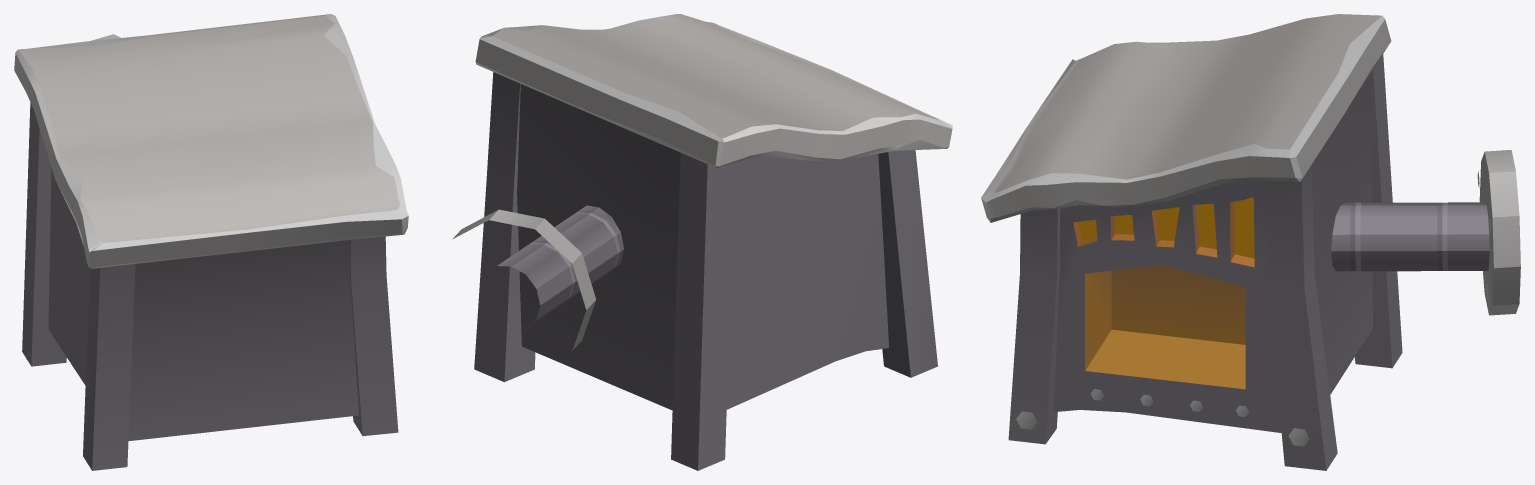
File: Furnace_1.glb
3 views of the same model, side by side, from view 1: azimuth 30°, elevation 25°; view 2: azimuth 150°, elevation 25°; view 3: azimuth 270°, elevation 25° (orthographic). The views are drawn at different scales.
Visible parts, largest first — view 1: Furnace; view 2: Furnace; view 3: Furnace.
Part boxes in pixels (x1,y1,x2,y2): Furnace: (14,14,408,470); Furnace: (452,14,952,470); Furnace: (981,14,1520,470).
Bounding box in the file's own units: 1.71 × 1.47 × 2.17.
